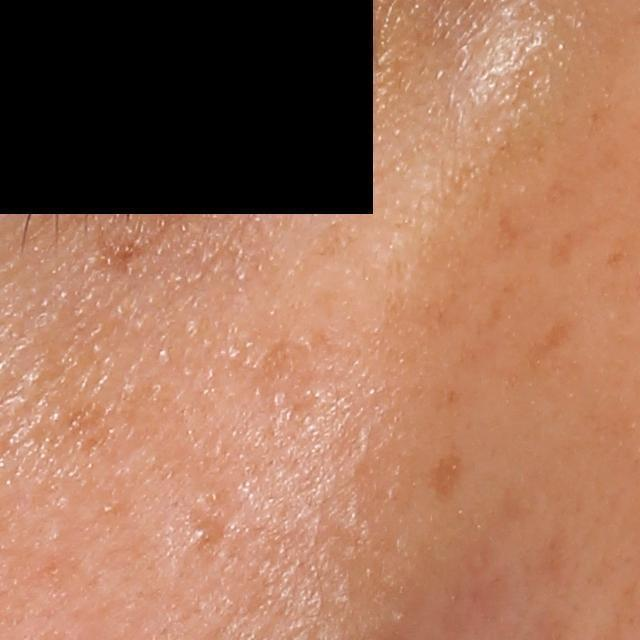comedo: (188, 519, 223, 550)
melasma: (240, 328, 338, 416), (92, 229, 170, 281), (62, 392, 113, 449), (527, 319, 576, 368), (427, 451, 463, 506), (547, 230, 587, 269), (497, 203, 524, 242), (602, 248, 629, 268)
